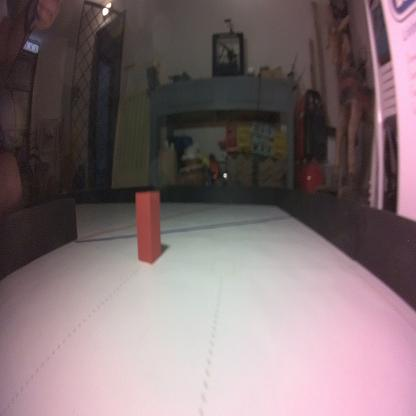red: (134, 190, 162, 265)
